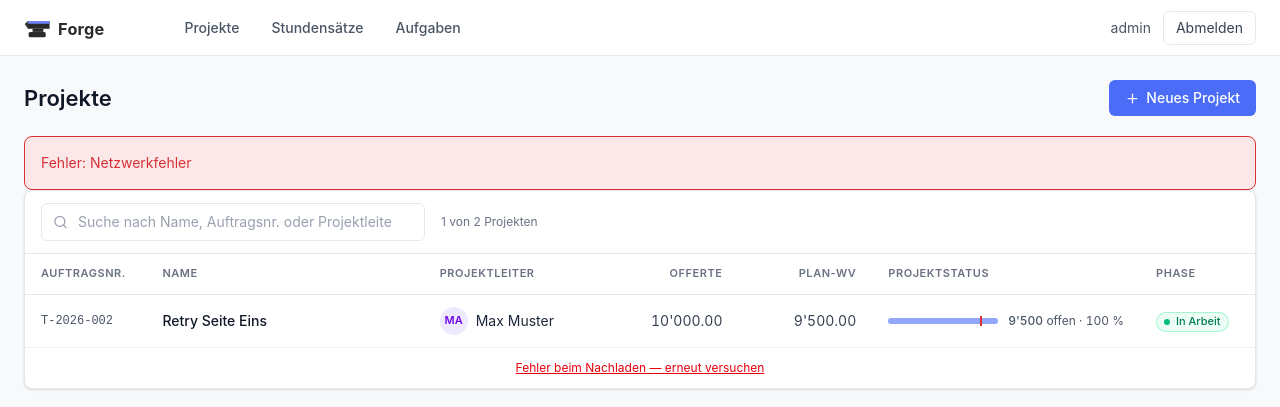
ProjektListePage – Fehler beim Nachladen › zeigt eine Wiederholungsaktion, die das Nachladen erneut auslöst
Expected: the text "Retry Seite Eins" is shown, [162,311,285,331]
Click the button "Fehler beim Nachladen — erneut versuchen" at (640, 368), box [516,360,764,376]
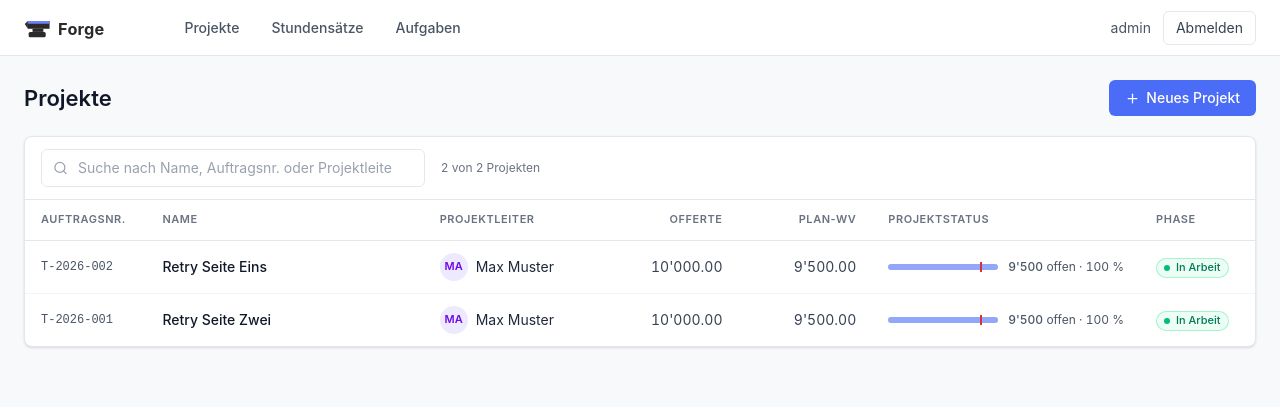
Expected: the text "Retry Seite Zwei" is shown, [162,310,289,330]
